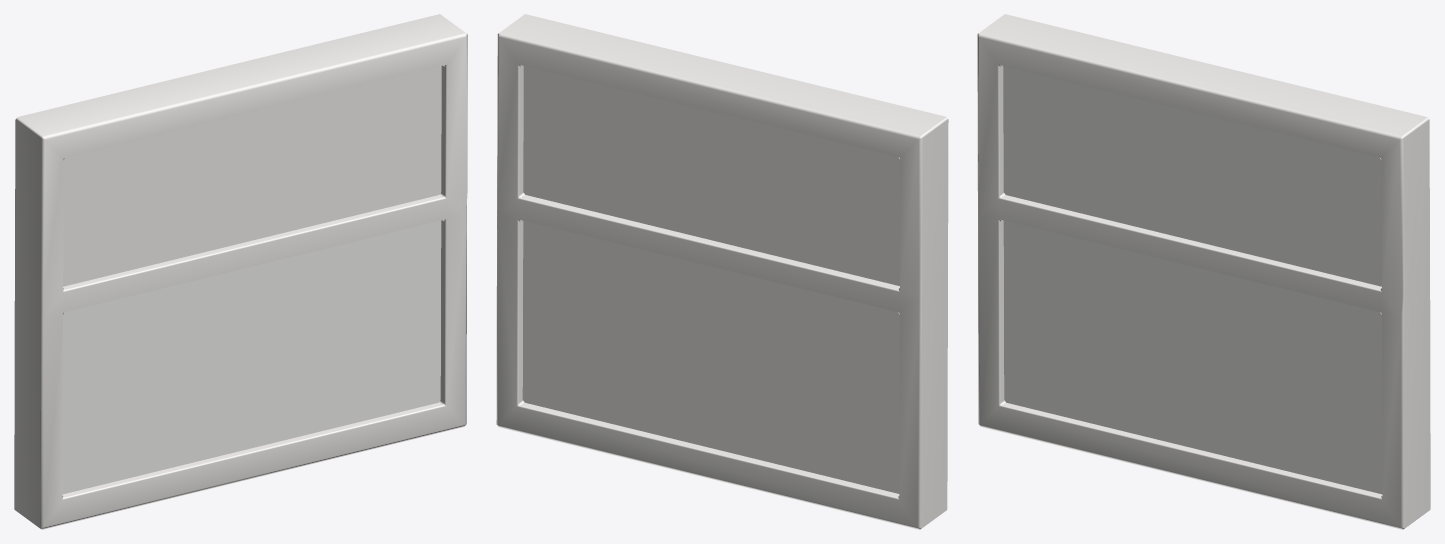
Rendered from Window_10.glb.
The picture shows the model from 3 angles, left to right: view 1: azimuth 30°, elevation 25°; view 2: azimuth 150°, elevation 25°; view 3: azimuth 330°, elevation 25°; orthographic projection.
Visible parts, largest first — view 1: Window_10; view 2: Window_10; view 3: Window_10.
Part boxes in pixels (<box>): Window_10: <box>14,14,467,529</box>; Window_10: <box>496,14,948,529</box>; Window_10: <box>977,14,1430,529</box>.
Size of the model in its own units: 1.7 by 1.5 by 0.2009.
2 materials, 2 textured.
